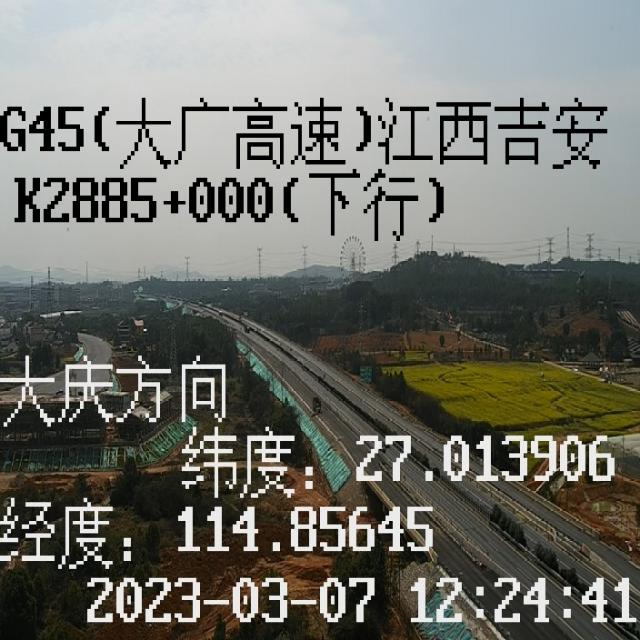point: (158, 276, 216, 336)
